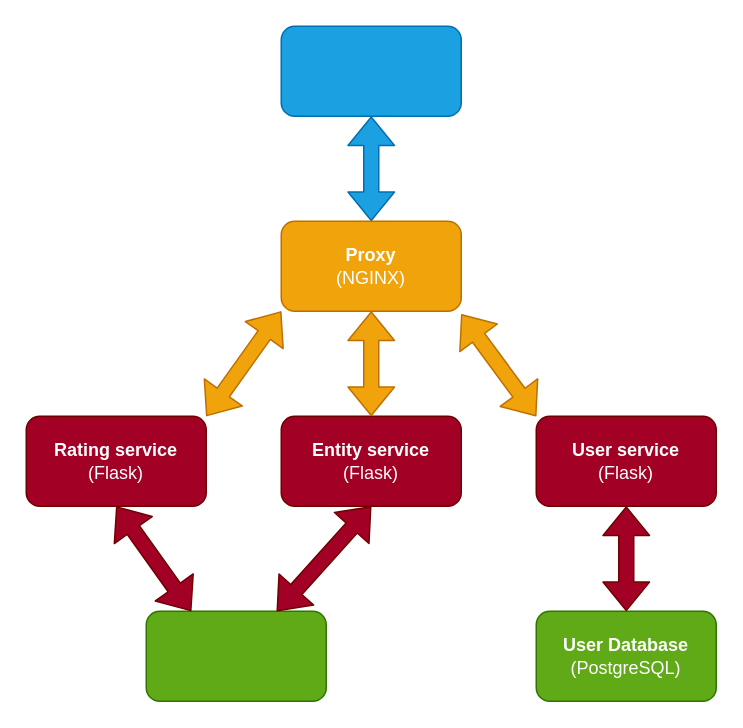
Some shapes in this 743 by 728 pixel diagram are drawn without their labels. The shapes that lost their labels are listed below. From the top down, each one's centre as x and y in pixels, then its label:
At point (370, 70): "Web UI (React)".
At point (235, 655): "Persistence Database (PostgreSQL)".
